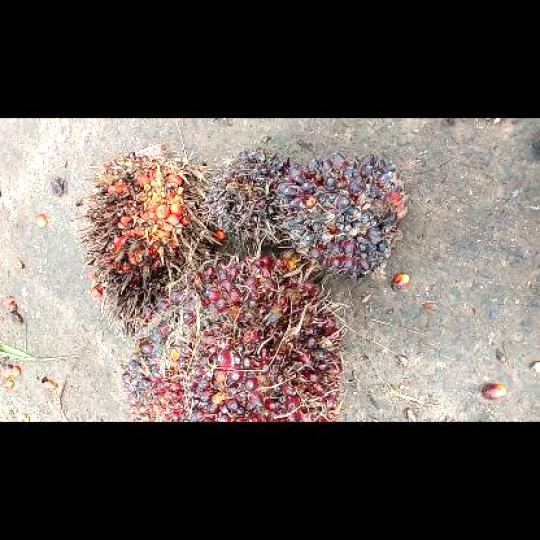masak: (118, 250, 349, 420)
terlalu masak: (80, 140, 208, 343)
